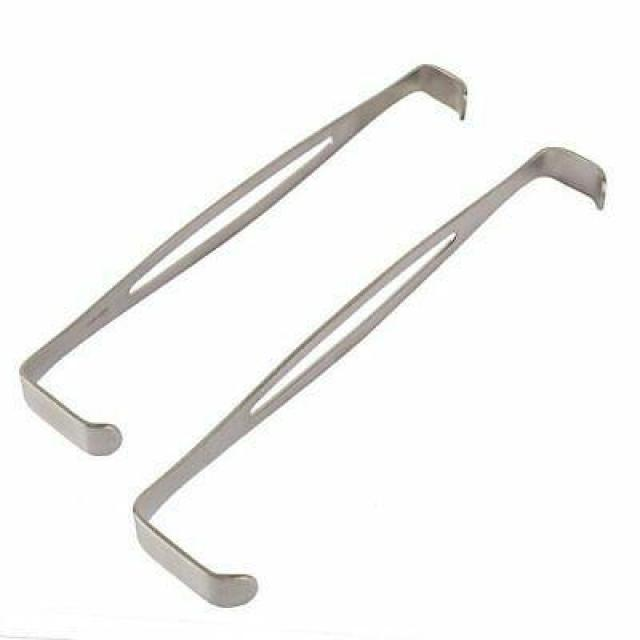Army_navy: (126, 140, 610, 612), (14, 58, 472, 462)
